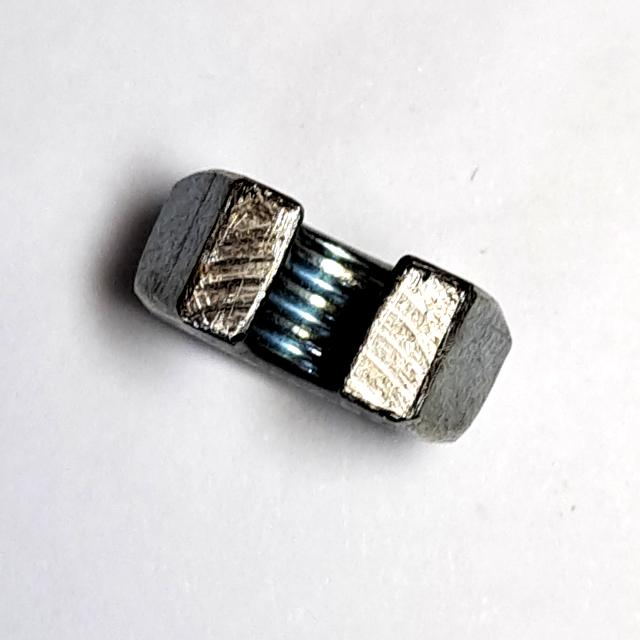Side-Fracture: (122, 154, 538, 457)
